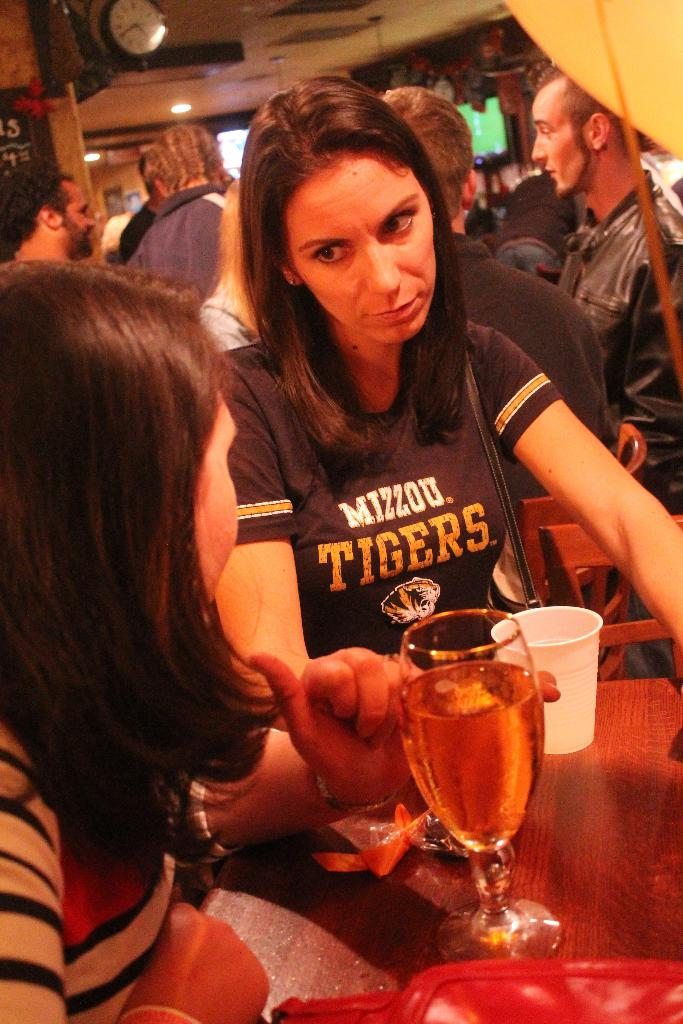Beer: (397, 657, 542, 858)
